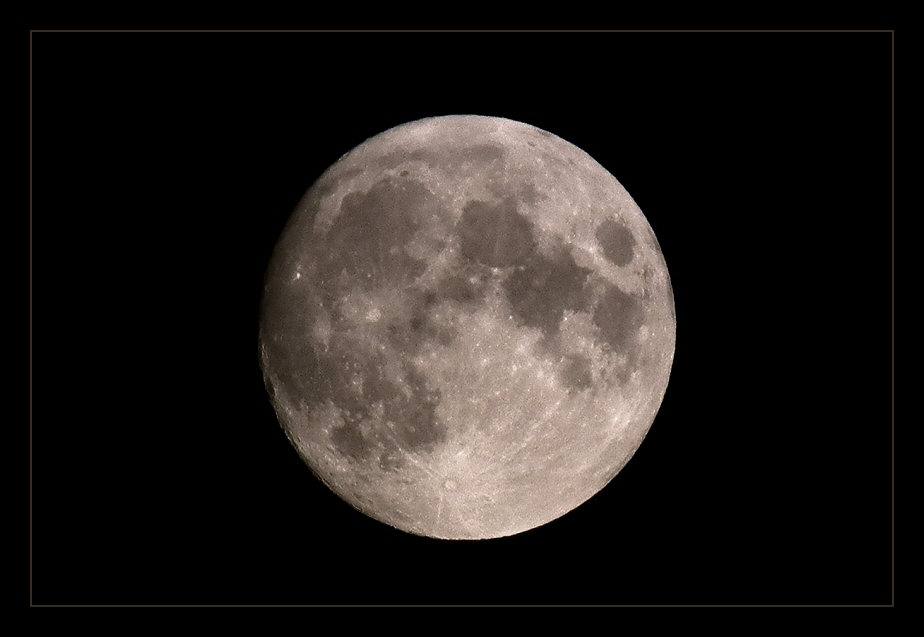crater: (447, 189, 547, 275), (590, 208, 641, 272), (355, 291, 392, 336), (429, 468, 467, 505), (284, 262, 312, 288), (516, 133, 546, 152), (394, 163, 416, 184)
